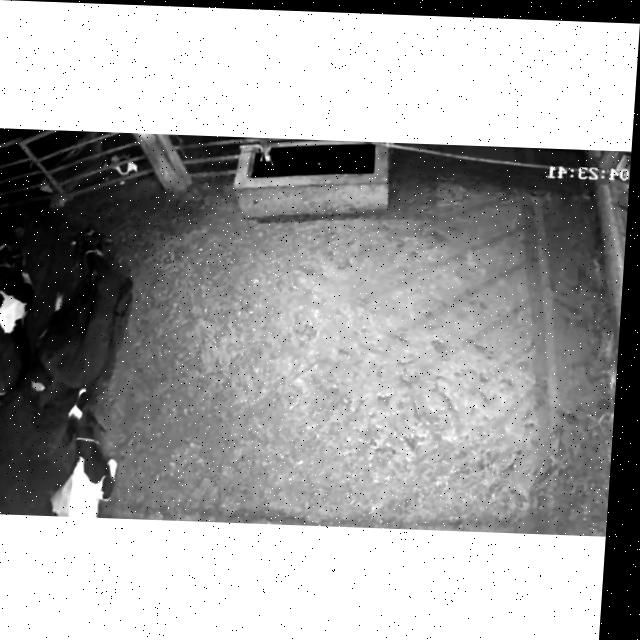lay: (22, 217, 148, 411), (25, 374, 170, 520), (0, 224, 40, 428)
